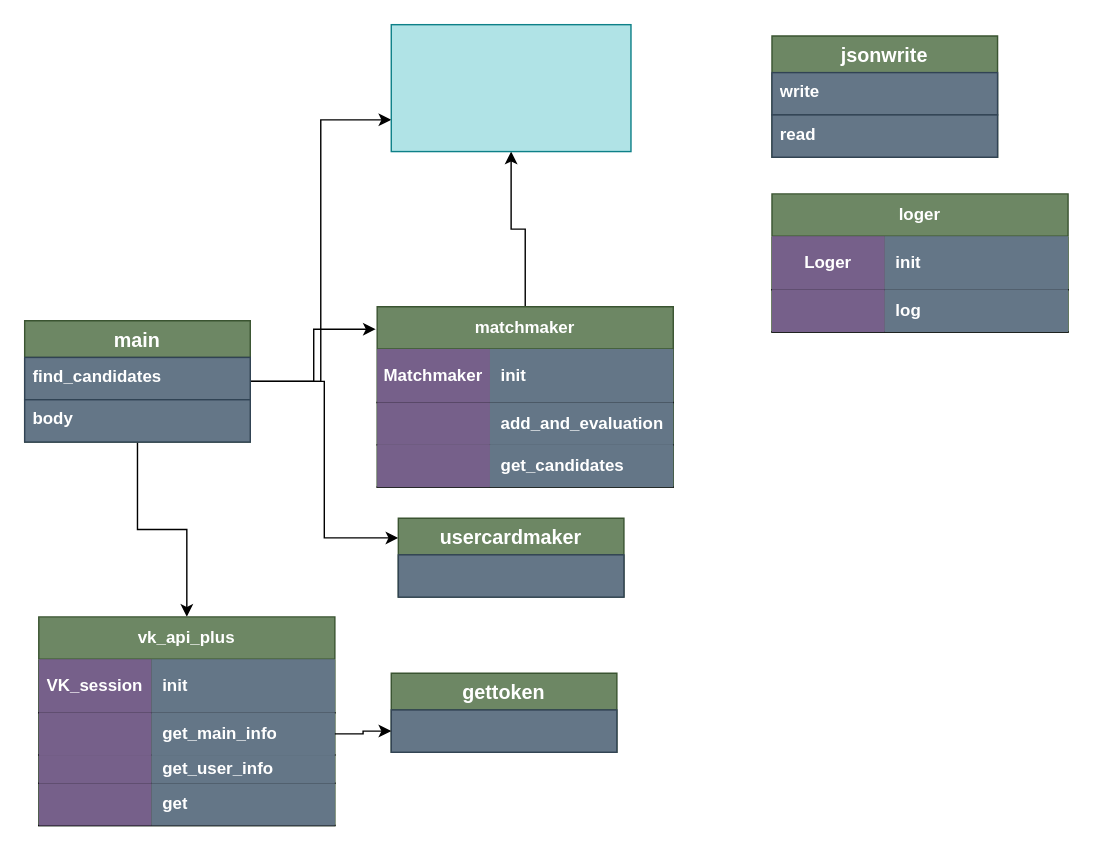
The diagram is 1093 pixels wide and 850 high, and some of its shapes have lost their labels. The centre of each missing label's shape, as x and y in pixels:
"DataBase" belongs at [510,87].
"get_token" belongs at [503,730].
"makeusercard" belongs at [510,575].
